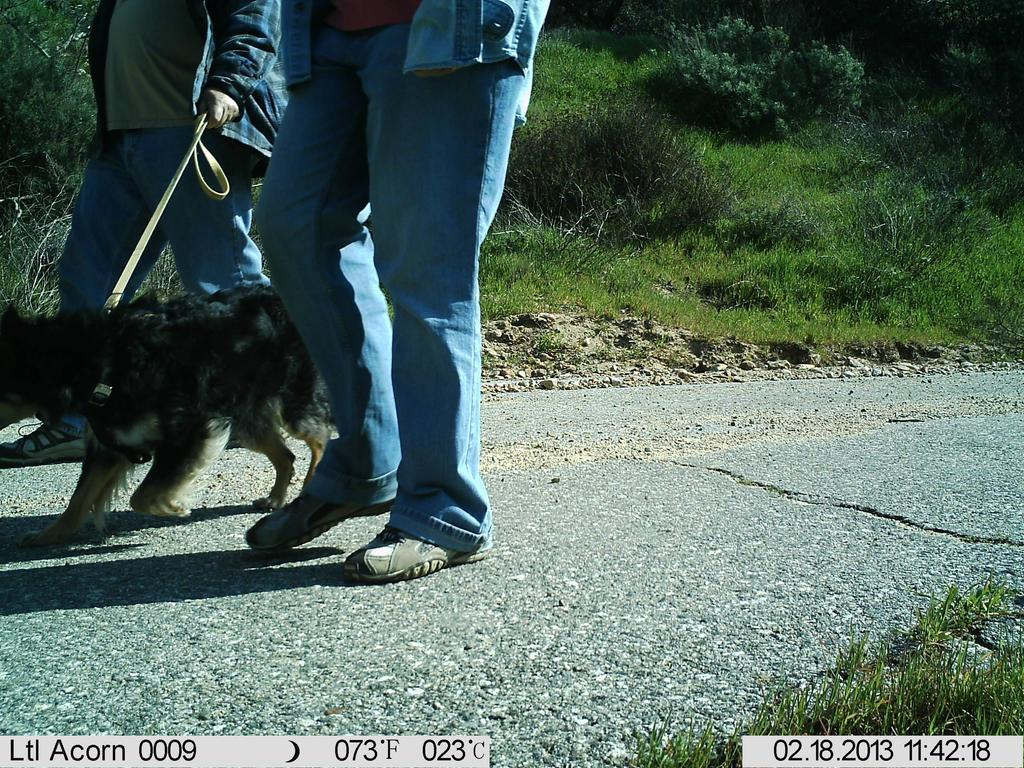dog: (3, 261, 345, 578)
